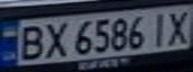5: (90, 16, 115, 54)
6: (72, 17, 96, 56), (127, 12, 151, 50)
8: (109, 15, 133, 52)
B: (12, 23, 48, 62)
I: (145, 10, 172, 47)
X: (39, 19, 72, 60), (163, 7, 193, 45)
